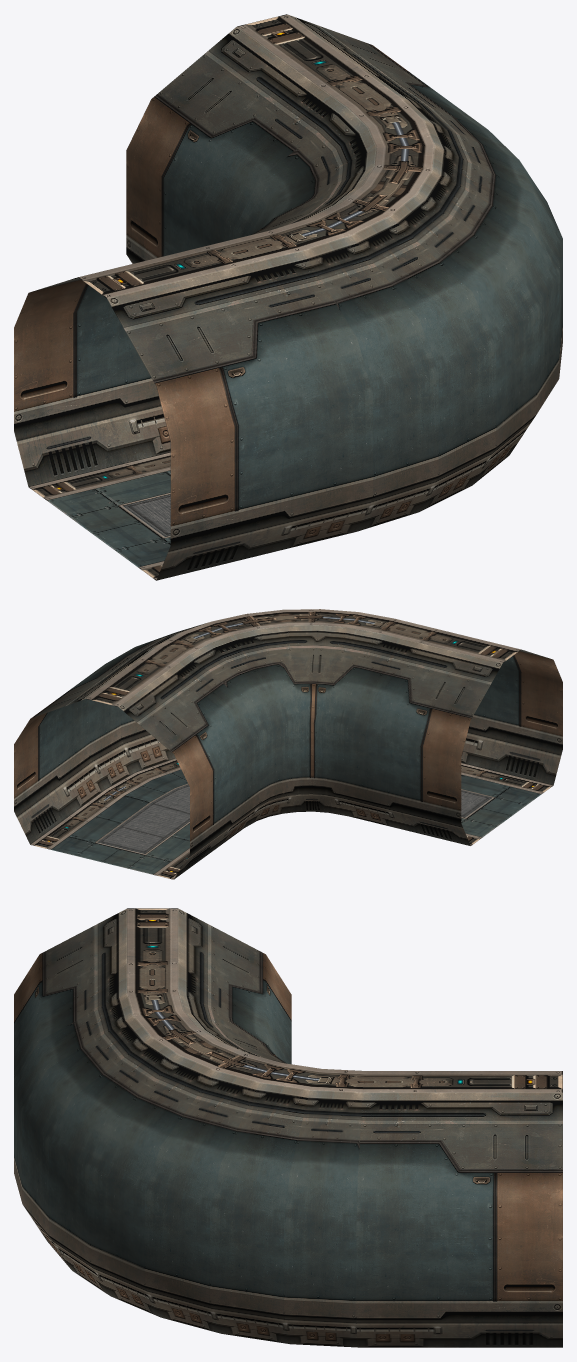
File: mprw_bend_hall.FBX
The picture shows the model from 3 angles, top to bottom: view 1: azimuth 30°, elevation 25°; view 2: azimuth 150°, elevation 25°; view 3: azimuth 270°, elevation 25°; orthographic projection. The views are drawn at different scales.
Visible parts, largest first — view 1: mprw_bend_hall; view 2: mprw_bend_hall; view 3: mprw_bend_hall.
Boxes of the visible parts, x1,y1,x2,y2 form: mprw_bend_hall: (14,14,562,580); mprw_bend_hall: (14,609,562,879); mprw_bend_hall: (14,908,562,1347).
Size of the model in its own units: 1271 by 557 by 1271.
2 materials, 2 textured.
